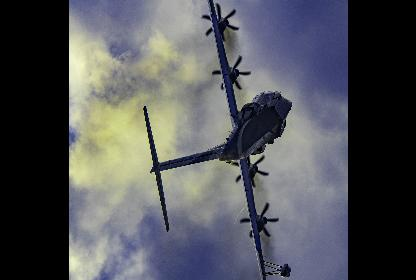AG600: (142, 0, 292, 279)
